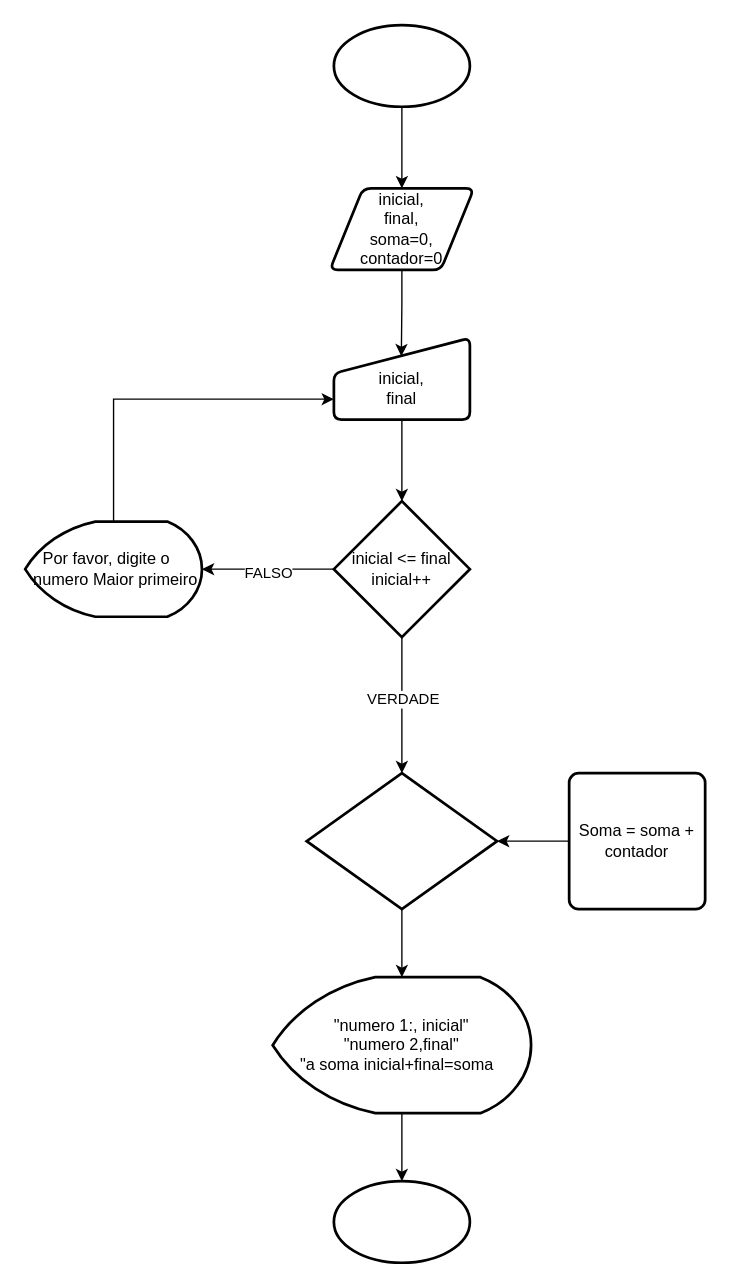
Some shapes in this 729 by 1287 pixel diagram are drawn without their labels. Each missing label, with the centre of its shape:
"fim" goes at pixel 401 1221.
"inicio" goes at pixel 401 65.
"Loop contador=inicial; contador < final; contador++" goes at pixel 401 840.
